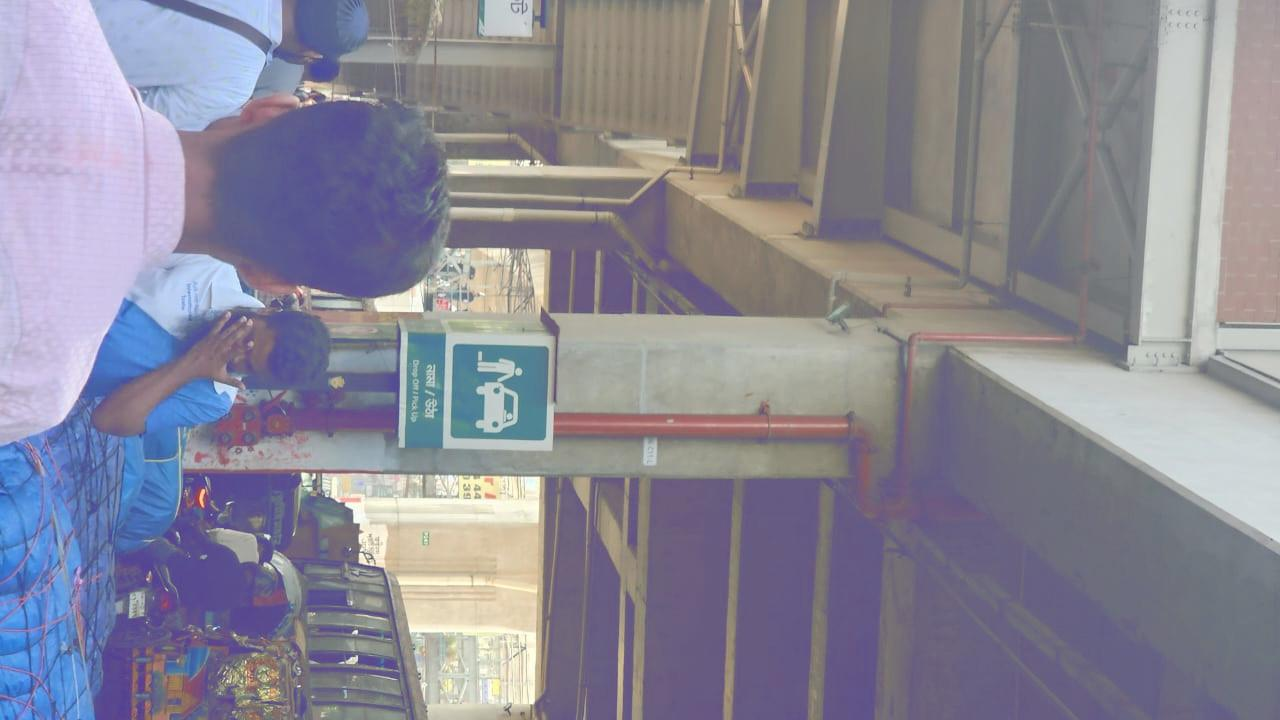Metro Dorp Up Pick up: (398, 318, 558, 451)
